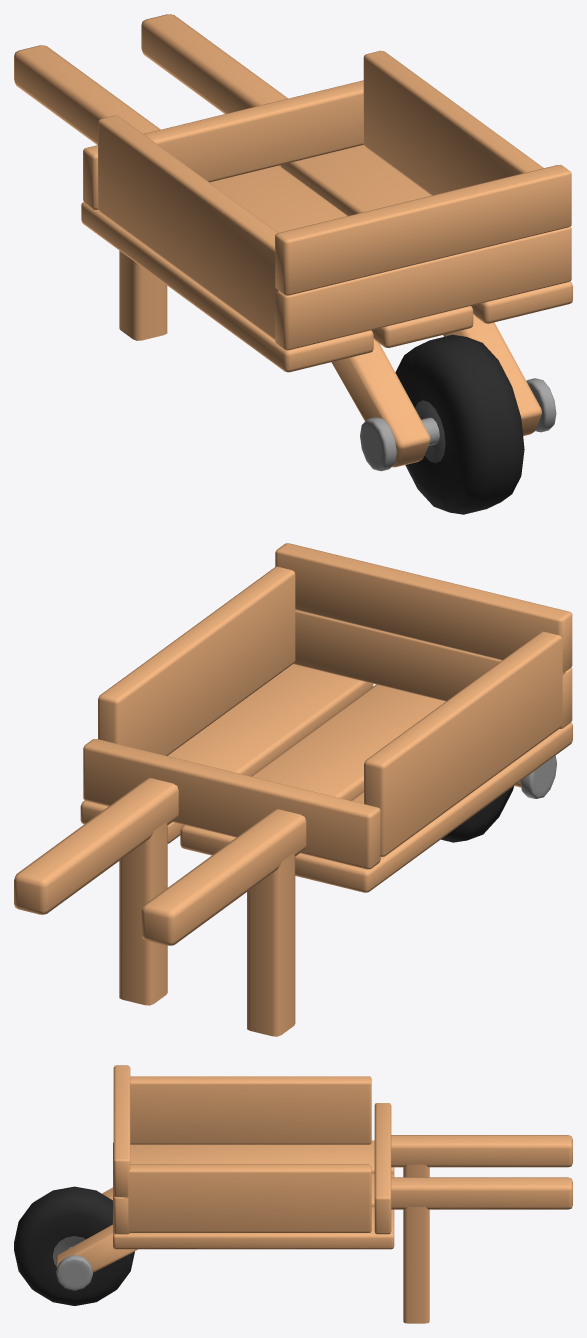
Rendered from HandCart.fbx.
3 renders of one model, top to bottom at view 1: azimuth 30°, elevation 25°; view 2: azimuth 150°, elevation 25°; view 3: azimuth 270°, elevation 25°, orthographic. The views are drawn at different scales.
Parts seen in each view (by area): view 1: HandCart, HandCart_Wheel; view 2: HandCart, HandCart_Wheel; view 3: HandCart, HandCart_Wheel.
Boxes of the visible parts, x1,y1,x2,y2 form: HandCart: (14,14,572,471); HandCart_Wheel: (395,334,524,514); HandCart: (14,543,572,1036); HandCart_Wheel: (441,786,513,842); HandCart: (56,1065,572,1323); HandCart_Wheel: (14,1186,134,1305).
Bounding box in the file's own units: 1381 × 1271 × 3407.
